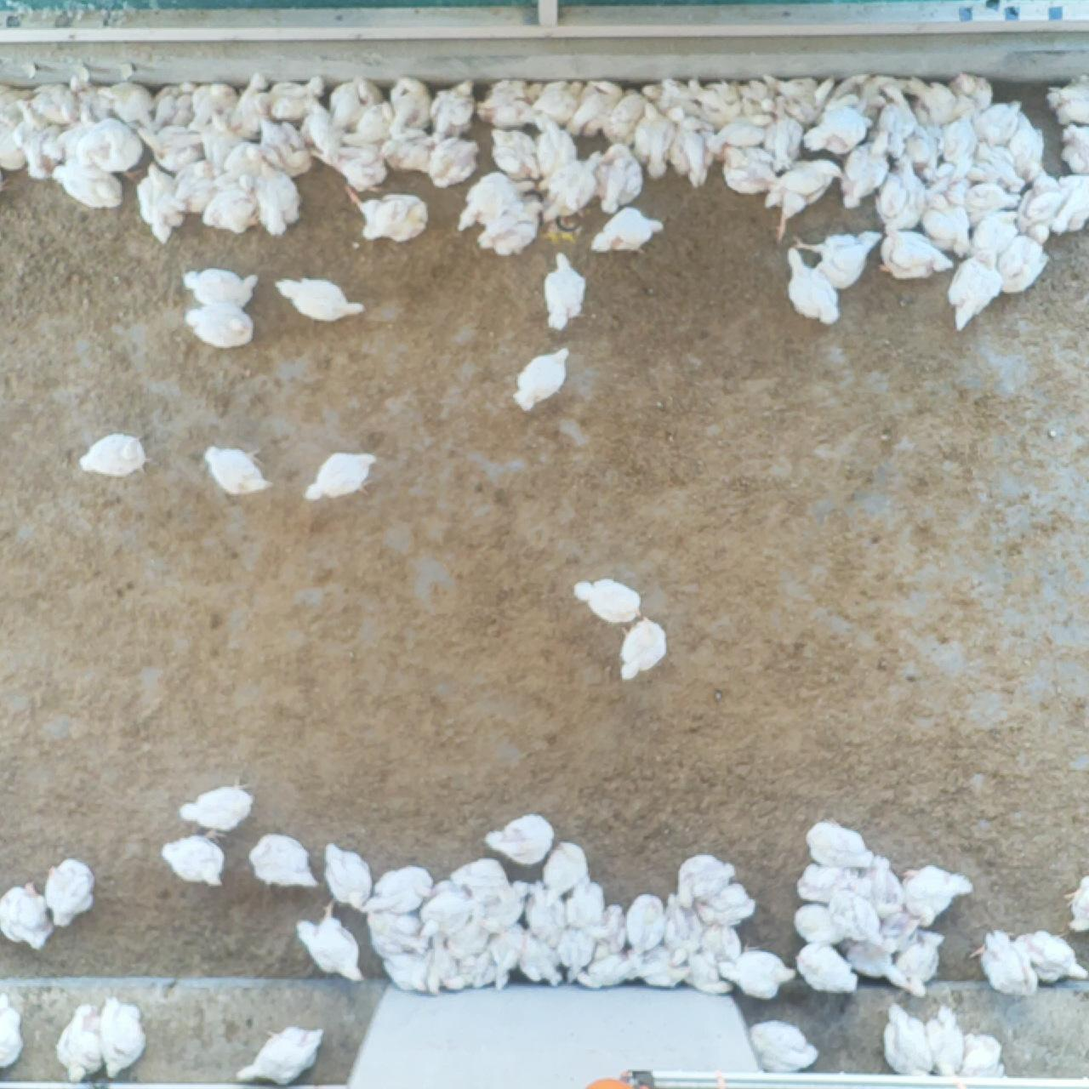chicken: (296, 896, 366, 982), (773, 157, 841, 239), (340, 184, 430, 242), (235, 1026, 322, 1086), (792, 232, 880, 288), (844, 938, 922, 993), (249, 832, 321, 891), (844, 856, 909, 921), (54, 1004, 109, 1080), (882, 1001, 934, 1081), (904, 863, 973, 923), (971, 932, 1038, 993), (804, 814, 876, 869), (461, 173, 534, 227), (180, 267, 259, 316), (783, 248, 835, 322), (251, 162, 302, 237), (804, 94, 871, 151), (716, 950, 795, 998), (46, 856, 96, 931), (882, 226, 953, 278), (946, 257, 1001, 324), (181, 779, 256, 828), (1017, 931, 1086, 984), (276, 275, 359, 319), (477, 203, 543, 258), (321, 843, 374, 911), (590, 209, 663, 258), (758, 71, 829, 121), (512, 346, 570, 407), (790, 944, 858, 996), (84, 117, 147, 173), (305, 452, 377, 501), (485, 813, 555, 863), (879, 154, 926, 228), (99, 998, 144, 1075), (1, 882, 50, 951), (138, 164, 183, 237), (547, 153, 596, 220), (542, 251, 587, 323), (79, 435, 151, 480), (53, 157, 119, 206), (903, 76, 965, 128), (840, 133, 886, 203), (745, 1020, 819, 1063), (183, 305, 255, 349), (160, 837, 222, 888), (423, 876, 476, 935), (202, 449, 273, 493), (795, 863, 871, 904), (670, 114, 712, 188), (636, 100, 676, 177), (573, 580, 643, 624), (620, 607, 664, 676), (716, 143, 779, 191), (369, 865, 432, 913), (473, 880, 531, 932), (687, 76, 744, 128), (948, 176, 1015, 220), (257, 117, 310, 172), (1011, 171, 1064, 226), (596, 145, 642, 208), (678, 853, 733, 905), (332, 78, 383, 134), (448, 859, 511, 903), (765, 94, 800, 173), (997, 237, 1049, 290), (427, 134, 477, 188), (317, 145, 384, 185), (971, 140, 1024, 190), (366, 911, 426, 955), (568, 84, 624, 131), (478, 80, 533, 127), (492, 125, 539, 180), (537, 116, 578, 179), (631, 944, 687, 990), (923, 191, 962, 257), (713, 109, 773, 151), (664, 892, 704, 955), (880, 81, 917, 149), (232, 70, 271, 134), (678, 943, 730, 991), (194, 78, 237, 136), (103, 82, 157, 128), (196, 127, 248, 174), (427, 81, 474, 133), (607, 85, 649, 143), (201, 187, 255, 232), (955, 1030, 1009, 1075), (927, 1002, 961, 1073), (390, 79, 431, 137), (901, 930, 944, 985), (544, 841, 589, 893), (1051, 171, 1089, 232), (939, 115, 972, 183), (795, 902, 851, 942), (266, 78, 323, 117), (152, 83, 200, 128), (562, 881, 606, 930), (522, 930, 561, 985), (524, 877, 563, 932), (299, 106, 341, 157), (380, 951, 431, 993), (356, 98, 396, 151), (533, 81, 582, 124), (650, 76, 700, 118), (223, 142, 271, 185), (384, 125, 429, 170), (972, 209, 1016, 255), (1046, 73, 1089, 120), (424, 933, 460, 989), (558, 924, 591, 985), (1011, 115, 1041, 182), (624, 892, 659, 949), (585, 947, 632, 987), (487, 919, 522, 972), (900, 124, 940, 170), (151, 128, 198, 167), (978, 98, 1021, 140), (175, 159, 212, 207), (949, 70, 992, 111), (77, 83, 116, 127), (589, 904, 625, 951), (458, 947, 498, 988), (2, 989, 22, 1070), (450, 916, 487, 959), (733, 79, 776, 114), (701, 923, 736, 966), (54, 127, 96, 161), (31, 129, 60, 178), (1062, 123, 1089, 175), (36, 85, 75, 120), (1, 85, 37, 122), (15, 103, 42, 152), (1067, 876, 1088, 931), (1, 117, 24, 167)
